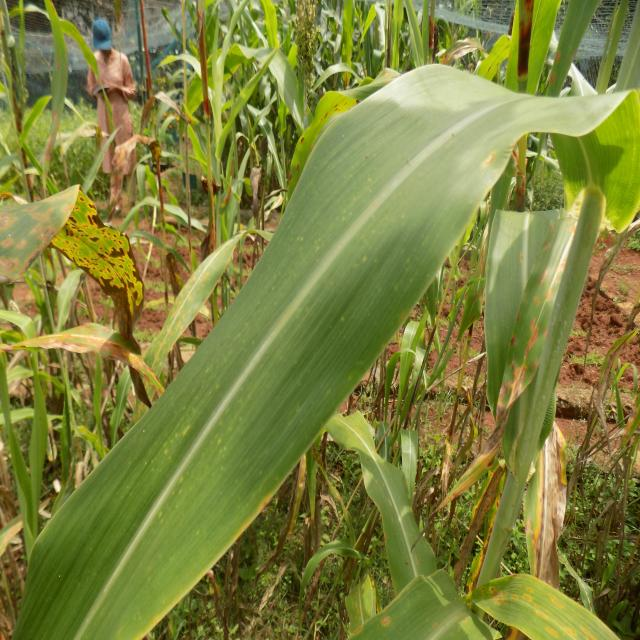millet_healthy: (22, 61, 640, 640)
